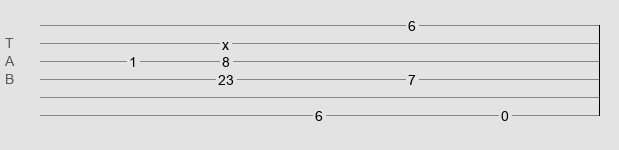0: (501, 108, 509, 118)
1: (129, 54, 137, 64)
23: (218, 72, 234, 82)
6: (315, 108, 323, 118), (408, 18, 416, 28)
7: (408, 72, 416, 82)
8: (222, 54, 230, 64)
x: (222, 37, 229, 45)
